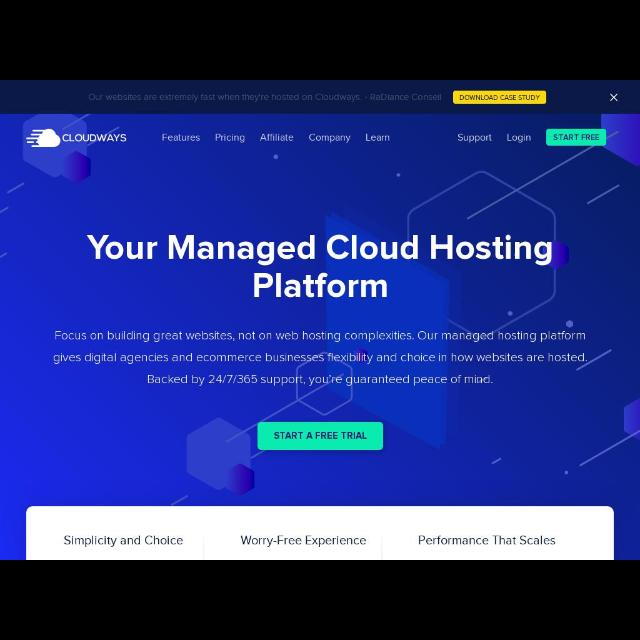backgroundimage: (3, 114, 639, 558)
icon: (22, 124, 60, 148), (610, 92, 618, 101)
iframe: (2, 81, 640, 112)
multitab: (25, 506, 615, 556)
text: (84, 232, 556, 266), (49, 350, 592, 366), (51, 328, 590, 344), (146, 370, 494, 388), (244, 268, 392, 302), (90, 92, 444, 104), (413, 528, 561, 548), (239, 528, 367, 548), (59, 534, 188, 550), (272, 430, 371, 442), (62, 132, 128, 142), (457, 132, 495, 146), (554, 132, 602, 142), (308, 132, 352, 142), (259, 132, 295, 144), (506, 128, 532, 144), (214, 132, 246, 144), (162, 133, 200, 143), (363, 132, 391, 144)
textbutton: (256, 421, 384, 451), (454, 92, 546, 105), (548, 128, 606, 148)
